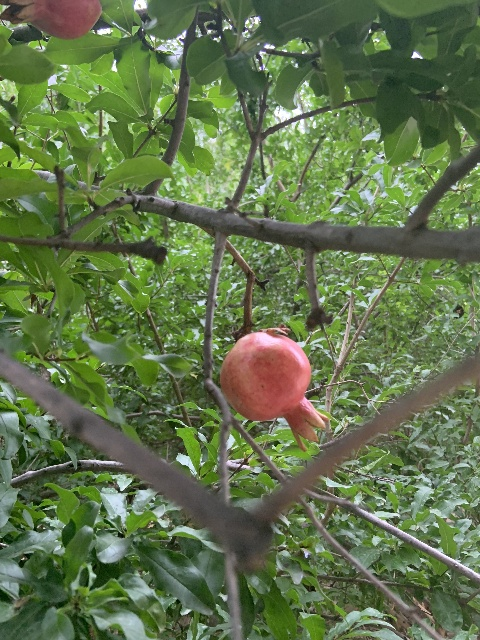ripe: (219, 331, 331, 451), (0, 0, 101, 39)
